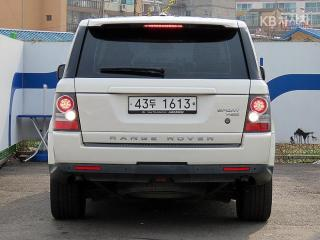1: (176, 97, 184, 110), (162, 99, 169, 109)
3: (142, 97, 150, 110), (184, 98, 191, 109)
4: (134, 98, 142, 110)
6: (169, 98, 176, 110)
두: (149, 98, 156, 109)
